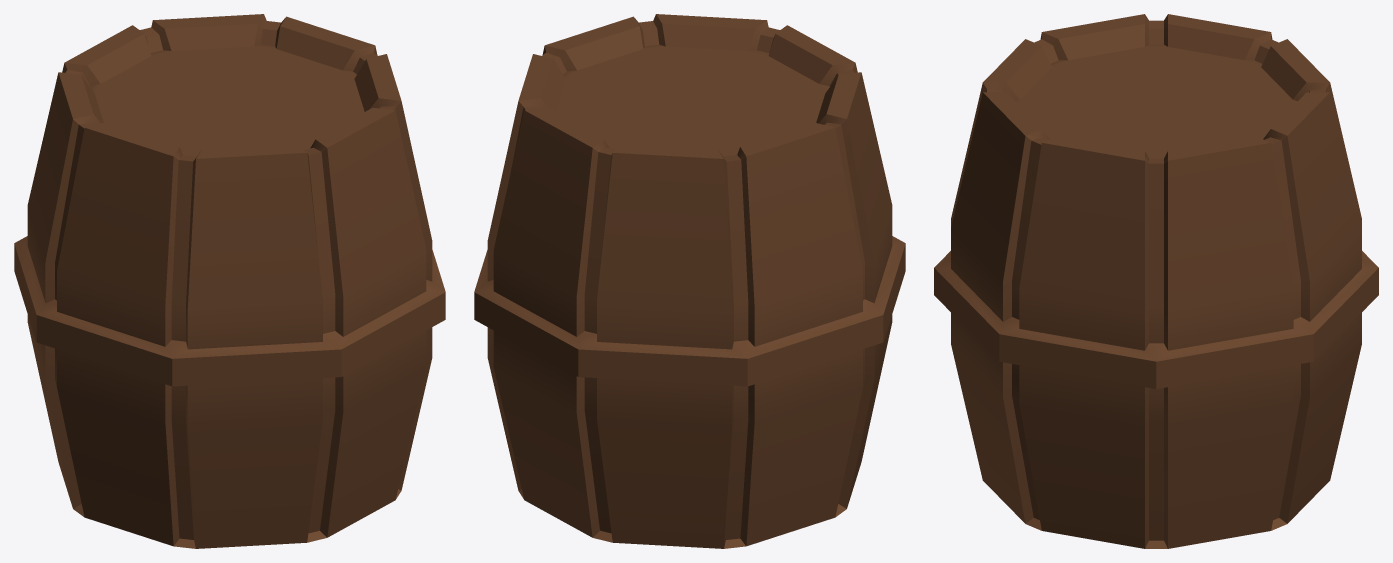
Rendered from a_z1_barrel_m.fbx.
3 views of the same model, side by side, from view 1: azimuth 30°, elevation 25°; view 2: azimuth 150°, elevation 25°; view 3: azimuth 270°, elevation 25° (orthographic).
Visible parts, largest first — view 1: a_z1_barrel_m; view 2: a_z1_barrel_m; view 3: a_z1_barrel_m.
Part boxes in pixels (x1=…): a_z1_barrel_m: x1=14, y1=14, x2=445, y2=548; a_z1_barrel_m: x1=474, y1=14, x2=905, y2=548; a_z1_barrel_m: x1=934, y1=14, x2=1378, y2=548.
Bounding box in the file's own units: 108 × 104 × 108.
